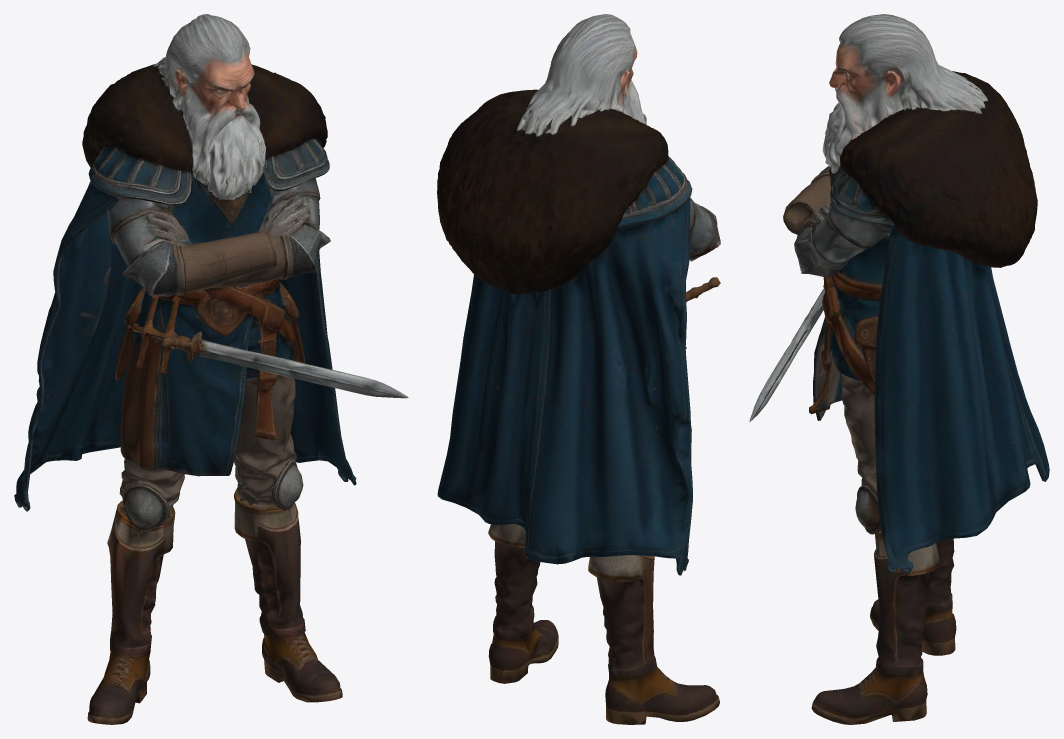
The model's file is sir_aldric.glb.
3 views of the same model, side by side, from view 1: azimuth 30°, elevation 25°; view 2: azimuth 150°, elevation 25°; view 3: azimuth 270°, elevation 25° (orthographic). The views are drawn at different scales.
Size of the model in its own units: 0.8371 by 1.9 by 0.7823.
1 material, 1 textured.
